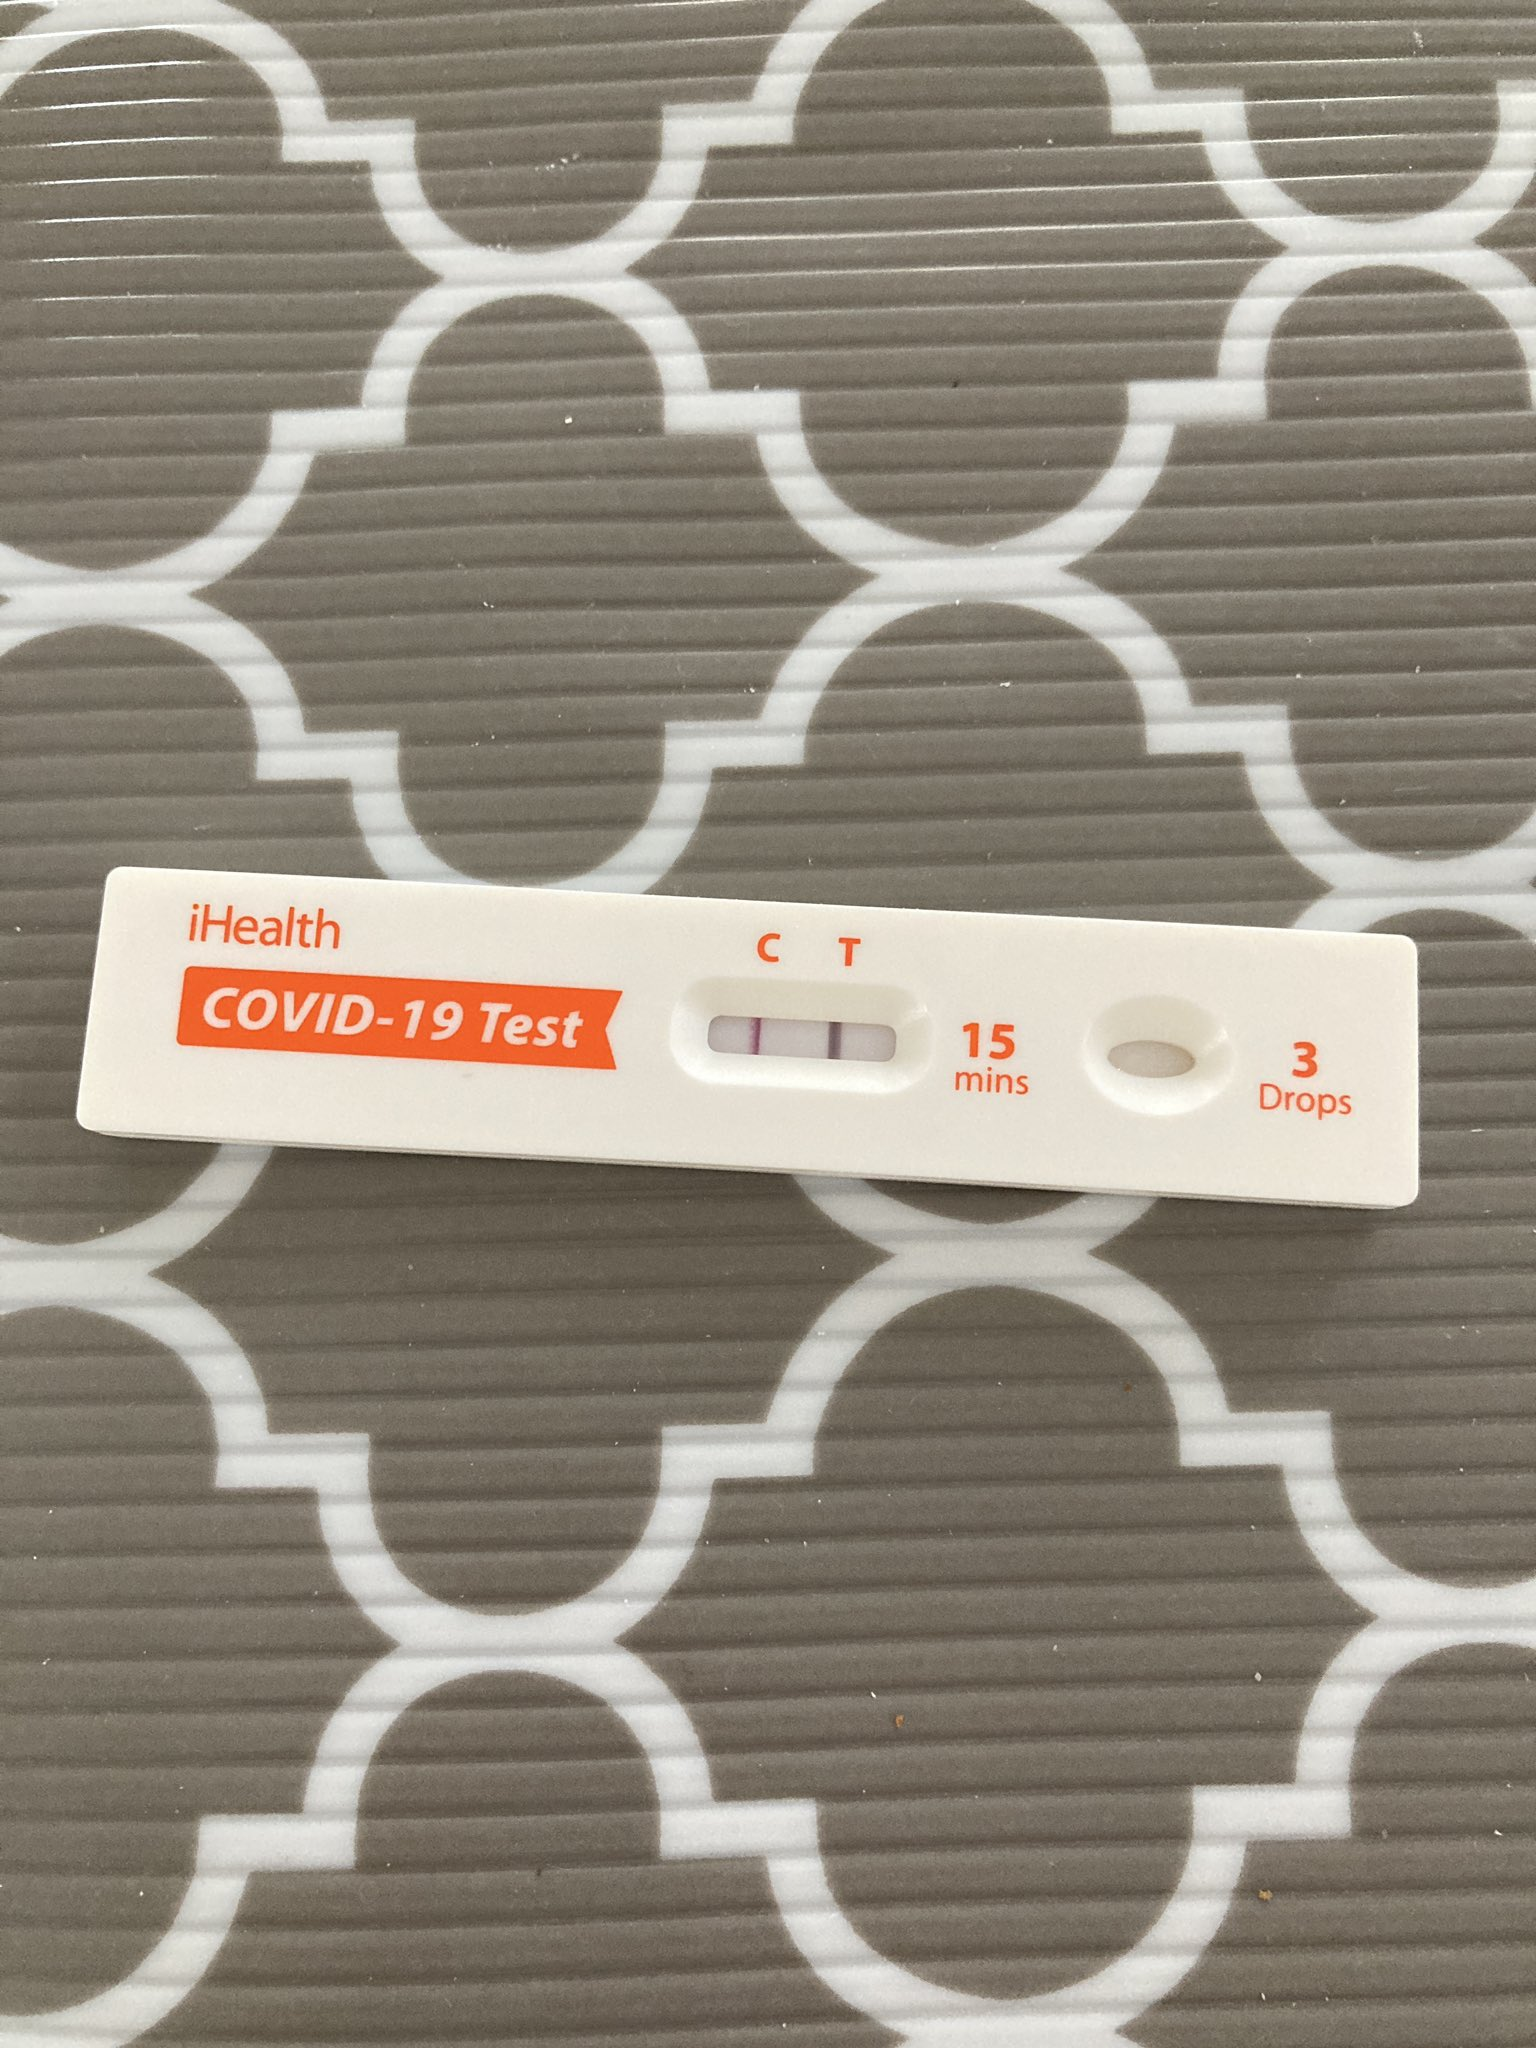positive: (678, 977, 921, 1074)
